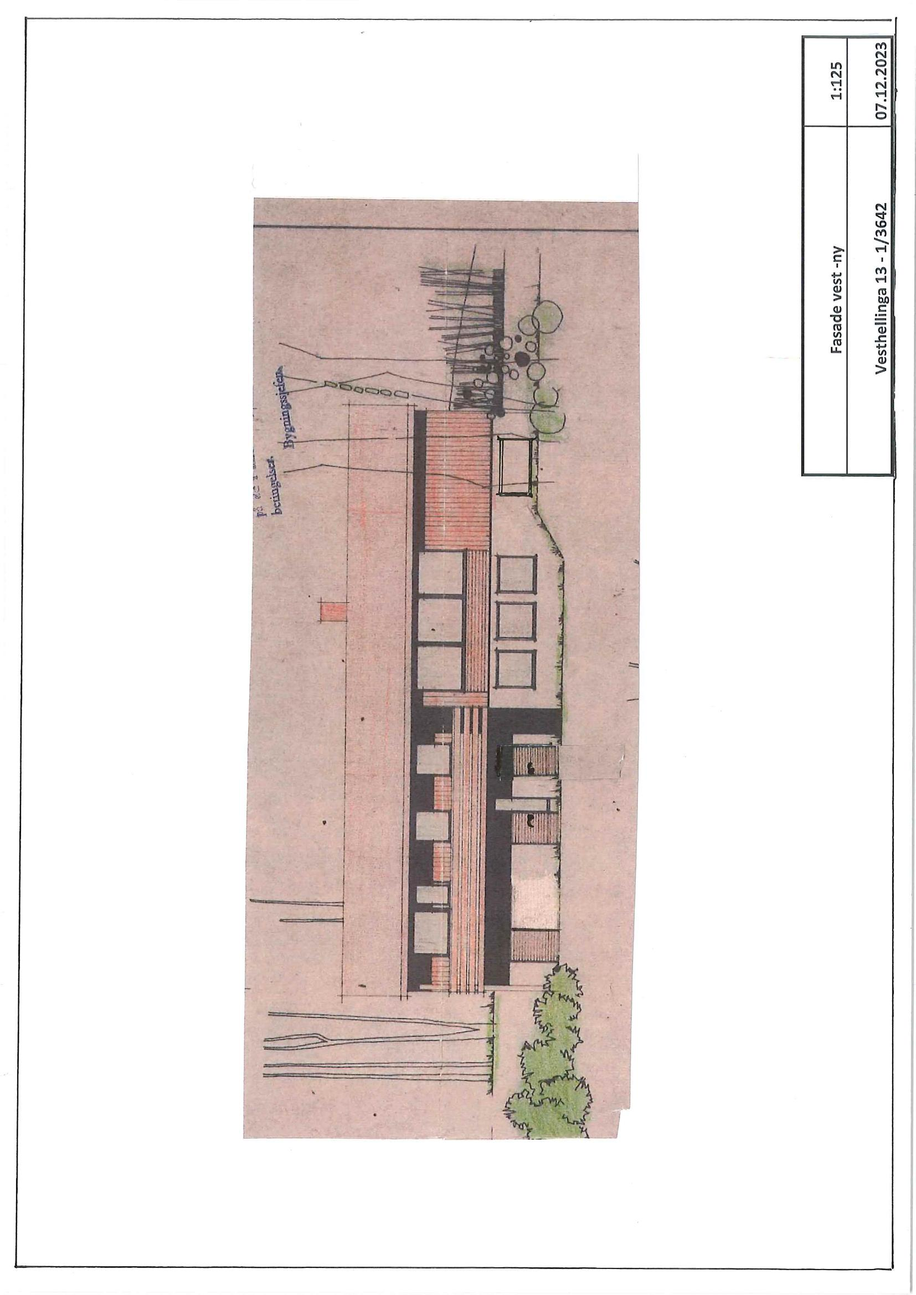fasade: (320, 403, 563, 999)
